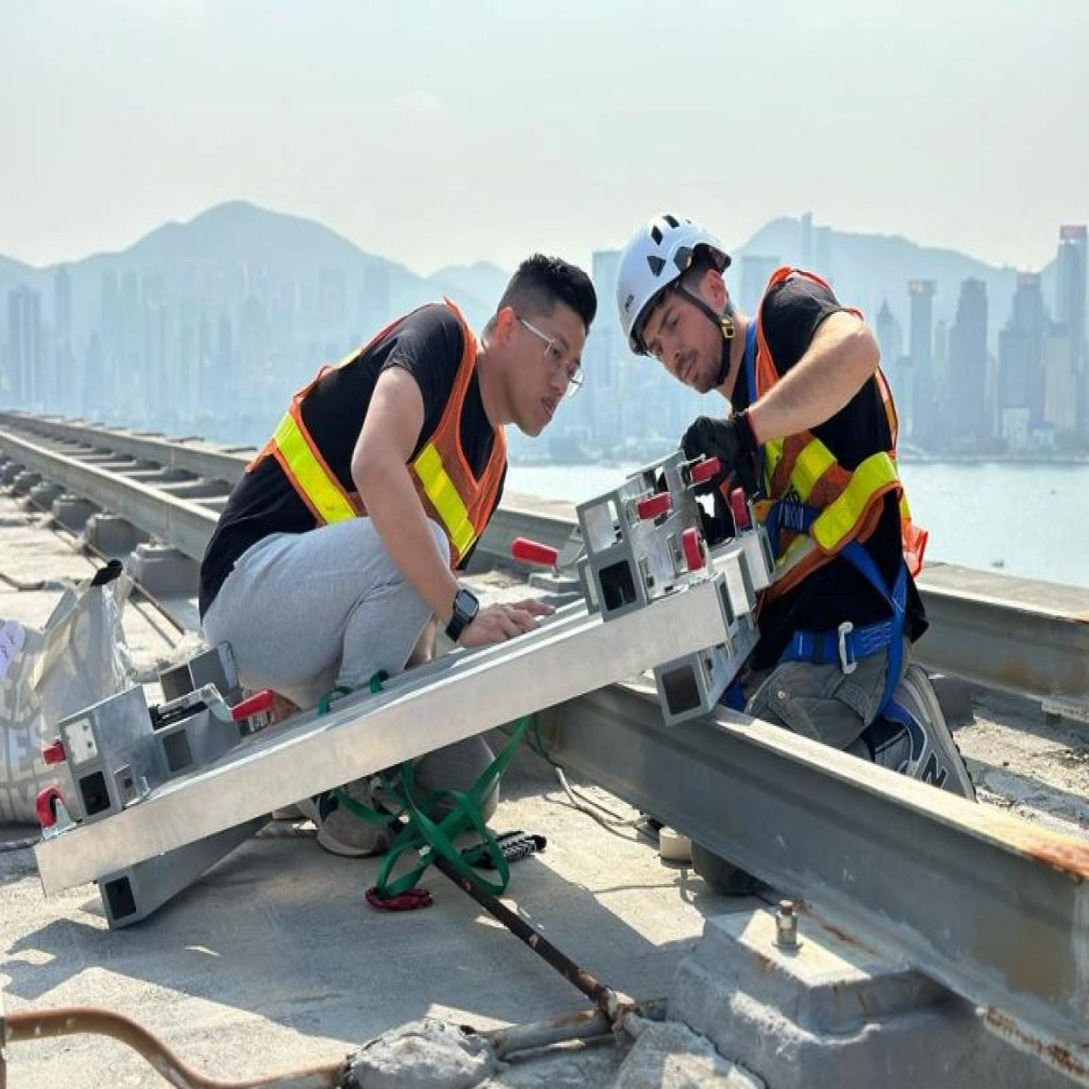Person: (184, 232, 609, 855), (600, 182, 989, 834)
Safety_Vest: (227, 280, 516, 627), (737, 256, 923, 646)
